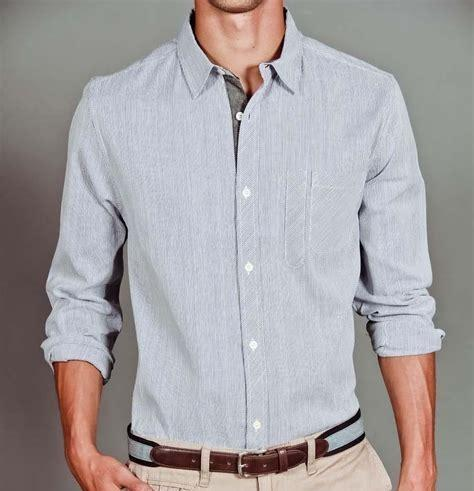shirt: (42, 4, 444, 456)
